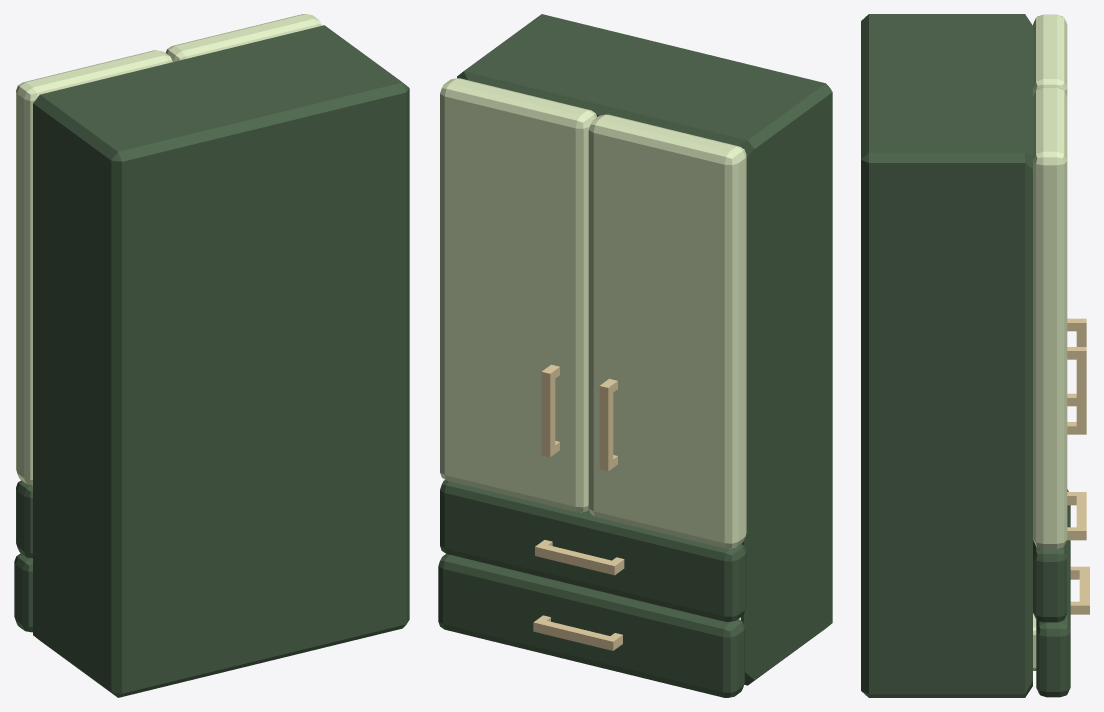
File: wardrobe1.fbx
The picture shows the model from 3 angles, left to right: view 1: azimuth 30°, elevation 25°; view 2: azimuth 150°, elevation 25°; view 3: azimuth 270°, elevation 25°; orthographic projection.
Parts seen in each view (by area): view 1: wardrobe, rightdoor, leftdoor, downdrawer, upperdrawer; view 2: wardrobe, rightdoor, leftdoor, downdrawer, upperdrawer, Cube.007, Cube.008, Cube.009, Cube.010; view 3: wardrobe, leftdoor, downdrawer, upperdrawer, rightdoor, Cube.008, Cube.009, Cube.010, Cube.007.
Part boxes in pixels (left/top/right/bottom): wardrobe: left=33, top=25, right=409, bottom=697; rightdoor: left=16, top=50, right=172, bottom=485; leftdoor: left=165, top=14, right=321, bottom=61; downdrawer: left=14, top=553, right=32, bottom=632; upperdrawer: left=16, top=480, right=32, bottom=558; wardrobe: left=457, top=14, right=832, bottom=685; rightdoor: left=588, top=114, right=746, bottom=548; leftdoor: left=440, top=78, right=596, bottom=512; downdrawer: left=438, top=554, right=744, bottom=697; upperdrawer: left=440, top=480, right=746, bottom=621; Cube.007: left=599, top=378, right=617, bottom=471; Cube.008: left=541, top=364, right=559, bottom=457; Cube.009: left=535, top=540, right=624, bottom=575; Cube.010: left=533, top=615, right=622, bottom=650; wardrobe: left=861, top=14, right=1032, bottom=697; leftdoor: left=1033, top=87, right=1067, bottom=549; downdrawer: left=1036, top=489, right=1070, bottom=697; upperdrawer: left=1033, top=540, right=1067, bottom=622; rightdoor: left=1033, top=14, right=1067, bottom=96; Cube.008: left=1067, top=347, right=1086, bottom=434; Cube.009: left=1067, top=492, right=1086, bottom=540; Cube.010: left=1070, top=566, right=1089, bottom=614; Cube.007: left=1067, top=318, right=1086, bottom=406.
Bounding box in the file's own units: 200 × 350 × 133.
